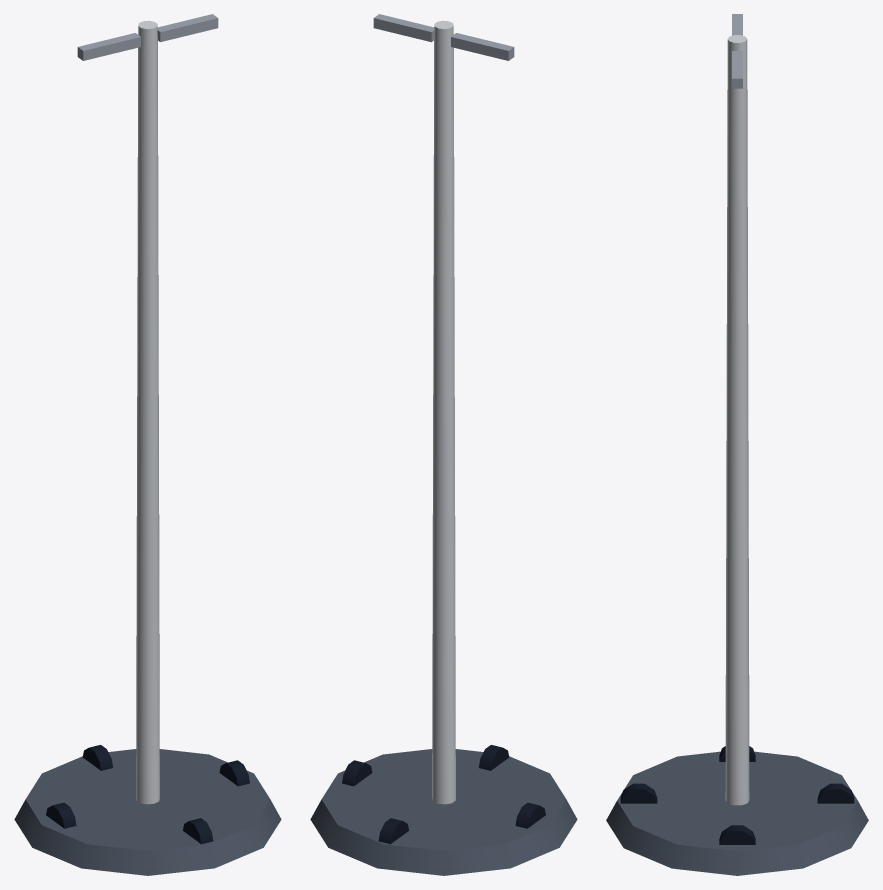
The model's file is parametric-source.glb.
3 views of the same model, side by side, from view 1: azimuth 30°, elevation 25°; view 2: azimuth 150°, elevation 25°; view 3: azimuth 270°, elevation 25° (orthographic).
Visible parts, largest first — view 1: openclinxr.equipment.iv_pole_equipment.wheeled_base, openclinxr.equipment.iv_pole_equipment.pole, openclinxr.equipment.iv_pole_equipment.hook_1, openclinxr.equipment.iv_pole_equipment.hook_0, openclinxr.equipment.iv_pole_equipment.caster_0, openclinxr.equipment.iv_pole_equipment.caster_2, openclinxr.equipment.iv_pole_equipment.caster_3, openclinxr.equipment.iv_pole_equipment.caster_1; view 2: openclinxr.equipment.iv_pole_equipment.wheeled_base, openclinxr.equipment.iv_pole_equipment.pole, openclinxr.equipment.iv_pole_equipment.hook_1, openclinxr.equipment.iv_pole_equipment.hook_0, openclinxr.equipment.iv_pole_equipment.caster_0, openclinxr.equipment.iv_pole_equipment.caster_2, openclinxr.equipment.iv_pole_equipment.caster_1, openclinxr.equipment.iv_pole_equipment.caster_3; view 3: openclinxr.equipment.iv_pole_equipment.wheeled_base, openclinxr.equipment.iv_pole_equipment.pole, openclinxr.equipment.iv_pole_equipment.caster_1, openclinxr.equipment.iv_pole_equipment.caster_3, openclinxr.equipment.iv_pole_equipment.caster_0.
Part boxes in pixels (x1,y1,x2,y2): openclinxr.equipment.iv_pole_equipment.wheeled_base: [14, 749, 281, 875]; openclinxr.equipment.iv_pole_equipment.pole: [136, 20, 159, 804]; openclinxr.equipment.iv_pole_equipment.hook_1: [77, 33, 140, 60]; openclinxr.equipment.iv_pole_equipment.hook_0: [157, 14, 218, 42]; openclinxr.equipment.iv_pole_equipment.caster_0: [219, 760, 249, 786]; openclinxr.equipment.iv_pole_equipment.caster_2: [46, 802, 76, 828]; openclinxr.equipment.iv_pole_equipment.caster_3: [82, 745, 112, 770]; openclinxr.equipment.iv_pole_equipment.caster_1: [183, 818, 213, 844]; openclinxr.equipment.iv_pole_equipment.wheeled_base: [310, 749, 577, 875]; openclinxr.equipment.iv_pole_equipment.pole: [432, 20, 455, 804]; openclinxr.equipment.iv_pole_equipment.hook_1: [451, 33, 514, 60]; openclinxr.equipment.iv_pole_equipment.hook_0: [373, 14, 434, 42]; openclinxr.equipment.iv_pole_equipment.caster_0: [342, 760, 372, 786]; openclinxr.equipment.iv_pole_equipment.caster_2: [515, 802, 545, 828]; openclinxr.equipment.iv_pole_equipment.caster_1: [479, 745, 509, 770]; openclinxr.equipment.iv_pole_equipment.caster_3: [378, 818, 408, 844]; openclinxr.equipment.iv_pole_equipment.wheeled_base: [606, 751, 868, 875]; openclinxr.equipment.iv_pole_equipment.pole: [725, 35, 749, 805]; openclinxr.equipment.iv_pole_equipment.caster_1: [620, 783, 657, 803]; openclinxr.equipment.iv_pole_equipment.caster_3: [817, 783, 854, 803]; openclinxr.equipment.iv_pole_equipment.caster_0: [719, 825, 755, 844].
Size of the model in its own units: 0.48 by 1.57 by 0.48.
